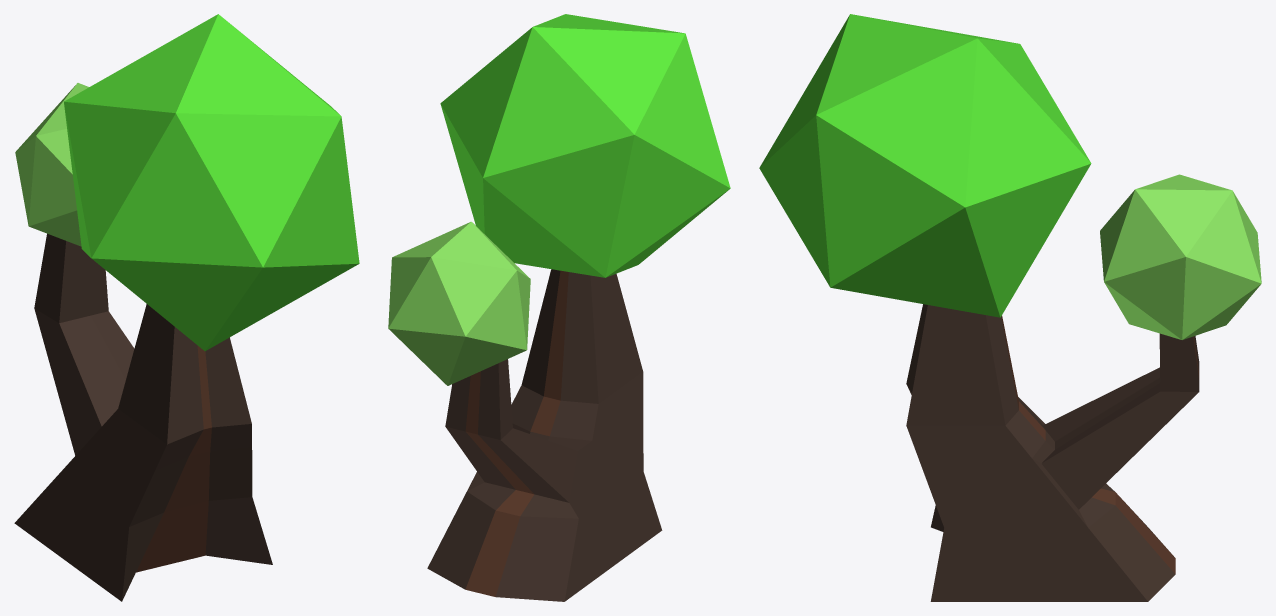
File: Tree_3.fbx
The picture shows the model from 3 angles, left to right: view 1: azimuth 30°, elevation 25°; view 2: azimuth 150°, elevation 25°; view 3: azimuth 270°, elevation 25°; orthographic projection. The views are drawn at different scales.
Visible parts, largest first — view 1: Cube; view 2: Cube; view 3: Cube.
Boxes of the visible parts, x1,y1,x2,y2 form: Cube: (14,14,359,601); Cube: (388,14,730,601); Cube: (759,14,1261,601).
Bounding box in the file's own units: 352 × 651 × 541.
